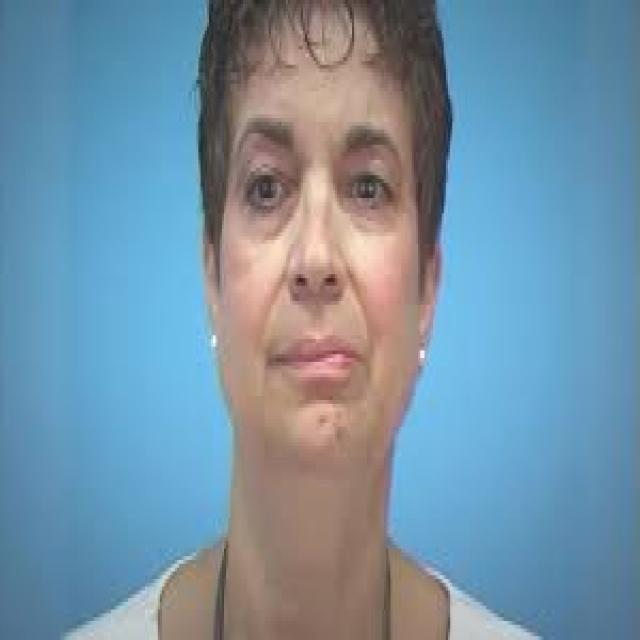normal_face: (202, 0, 433, 474)
